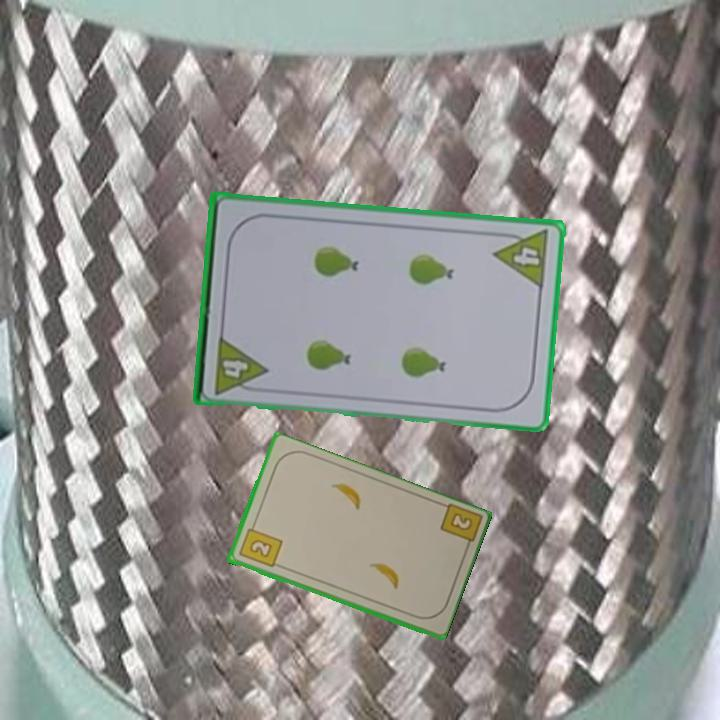2b: (235, 520, 285, 571), (436, 501, 483, 555)
4p: (490, 226, 552, 292), (211, 332, 270, 397)
